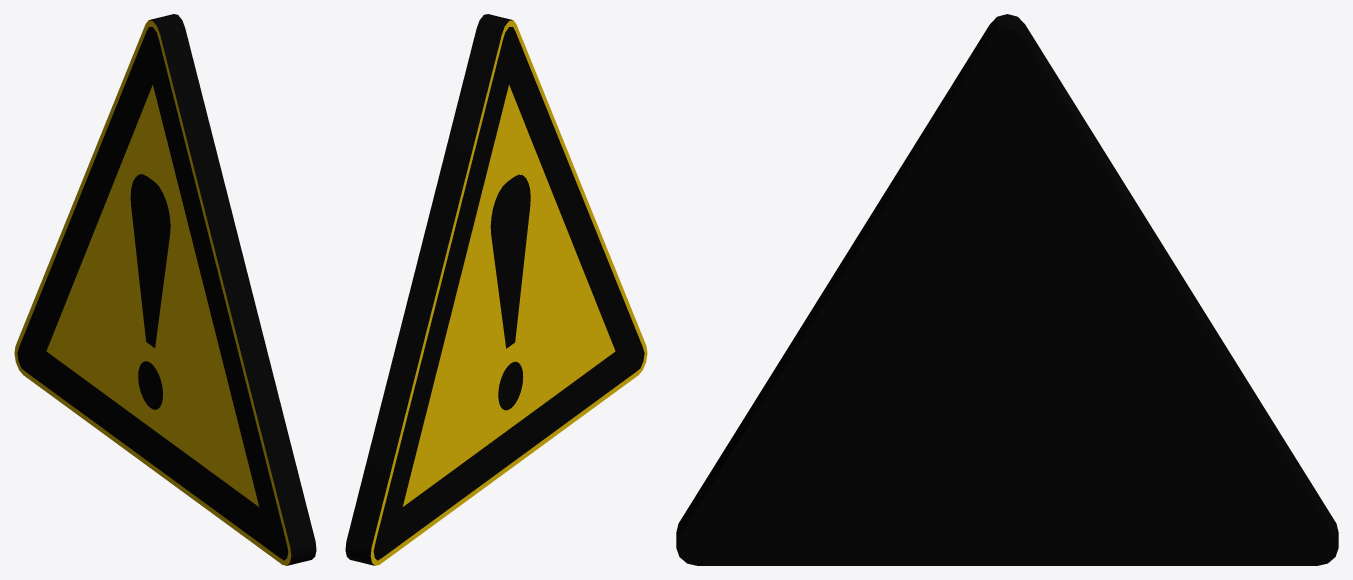
Rendered from Attention.fbx.
3 renders of one model, left to right at view 1: azimuth 30°, elevation 25°; view 2: azimuth 150°, elevation 25°; view 3: azimuth 270°, elevation 25°, orthographic. The views are drawn at different scales.
Visible parts, largest first — view 1: Attention; view 2: Attention; view 3: Attention.
Boxes of the visible parts, left/top/right/bottom form: Attention: left=14, top=14, right=316, bottom=565; Attention: left=345, top=14, right=647, bottom=565; Attention: left=676, top=14, right=1338, bottom=565.
Size of the model in its own units: 0.0646 by 1.02 by 1.14.
